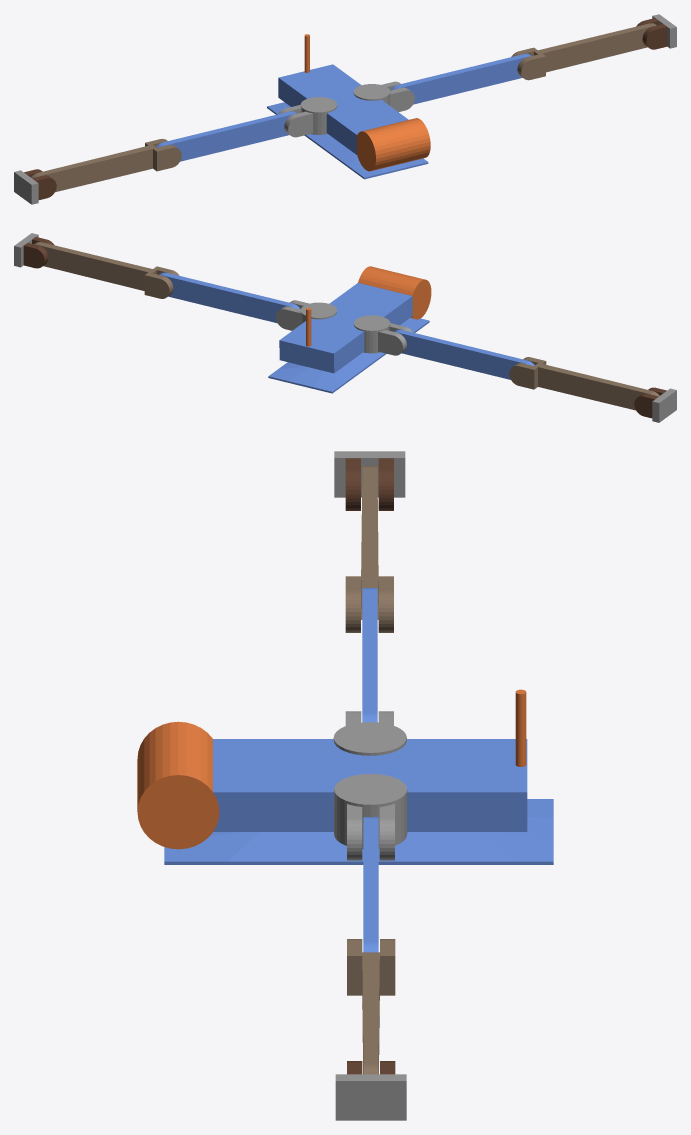
File: two-legs_v0-1.gltf
3 views of the same model, one above another, from view 1: azimuth 30°, elevation 25°; view 2: azimuth 150°, elevation 25°; view 3: azimuth 270°, elevation 25° (orthographic). The views are drawn at different scales.
Visible parts, largest first — view 1: Chassis, LowerLegRight2, LowerLegLeft2, UpperLegLeft2, UpperLegRight2, ShoulderRight2, ShoulderLeft2, FootRight2, FootLeft2; view 2: Chassis, LowerLegLeft2, LowerLegRight2, UpperLegLeft2, UpperLegRight2, ShoulderRight2, FootRight2, ShoulderLeft2, FootLeft2; view 3: Chassis, ShoulderLeft2, LowerLegRight2, LowerLegLeft2, FootLeft2, FootRight2, ShoulderRight2, UpperLegLeft2, UpperLegRight2.
Part boxes in pixels (x1,y1,x2,y2): Chassis: (267,34,430,179); LowerLegRight2: (31,138,181,192); LowerLegLeft2: (511,23,656,80); UpperLegLeft2: (390,53,531,104); UpperLegRight2: (156,111,296,161); ShoulderRight2: (278,97,337,137); ShoulderLeft2: (353,81,414,112); FootRight2: (14,169,56,204); FootLeft2: (636,14,676,49); Chassis: (268,266,431,393); LowerLegLeft2: (34,242,179,298); LowerLegRight2: (509,357,659,410); UpperLegLeft2: (159,272,300,323); UpperLegRight2: (394,329,534,379); ShoulderRight2: (354,315,412,355); FootRight2: (634,387,676,422); ShoulderLeft2: (276,300,336,330); FootLeft2: (14,233,54,268); Chassis: (137,689,553,864); ShoulderLeft2: (334,774,407,860); LowerLegRight2: (345,466,393,632); LowerLegLeft2: (347,939,395,1074); FootLeft2: (335,1061,406,1120); FootRight2: (334,451,405,510); ShoulderRight2: (333,711,406,755); UpperLegLeft2: (363,817,378,952); UpperLegRight2: (362,588,377,722).
Size of the model in its own units: 23.63 by 2.48 by 6.6.
